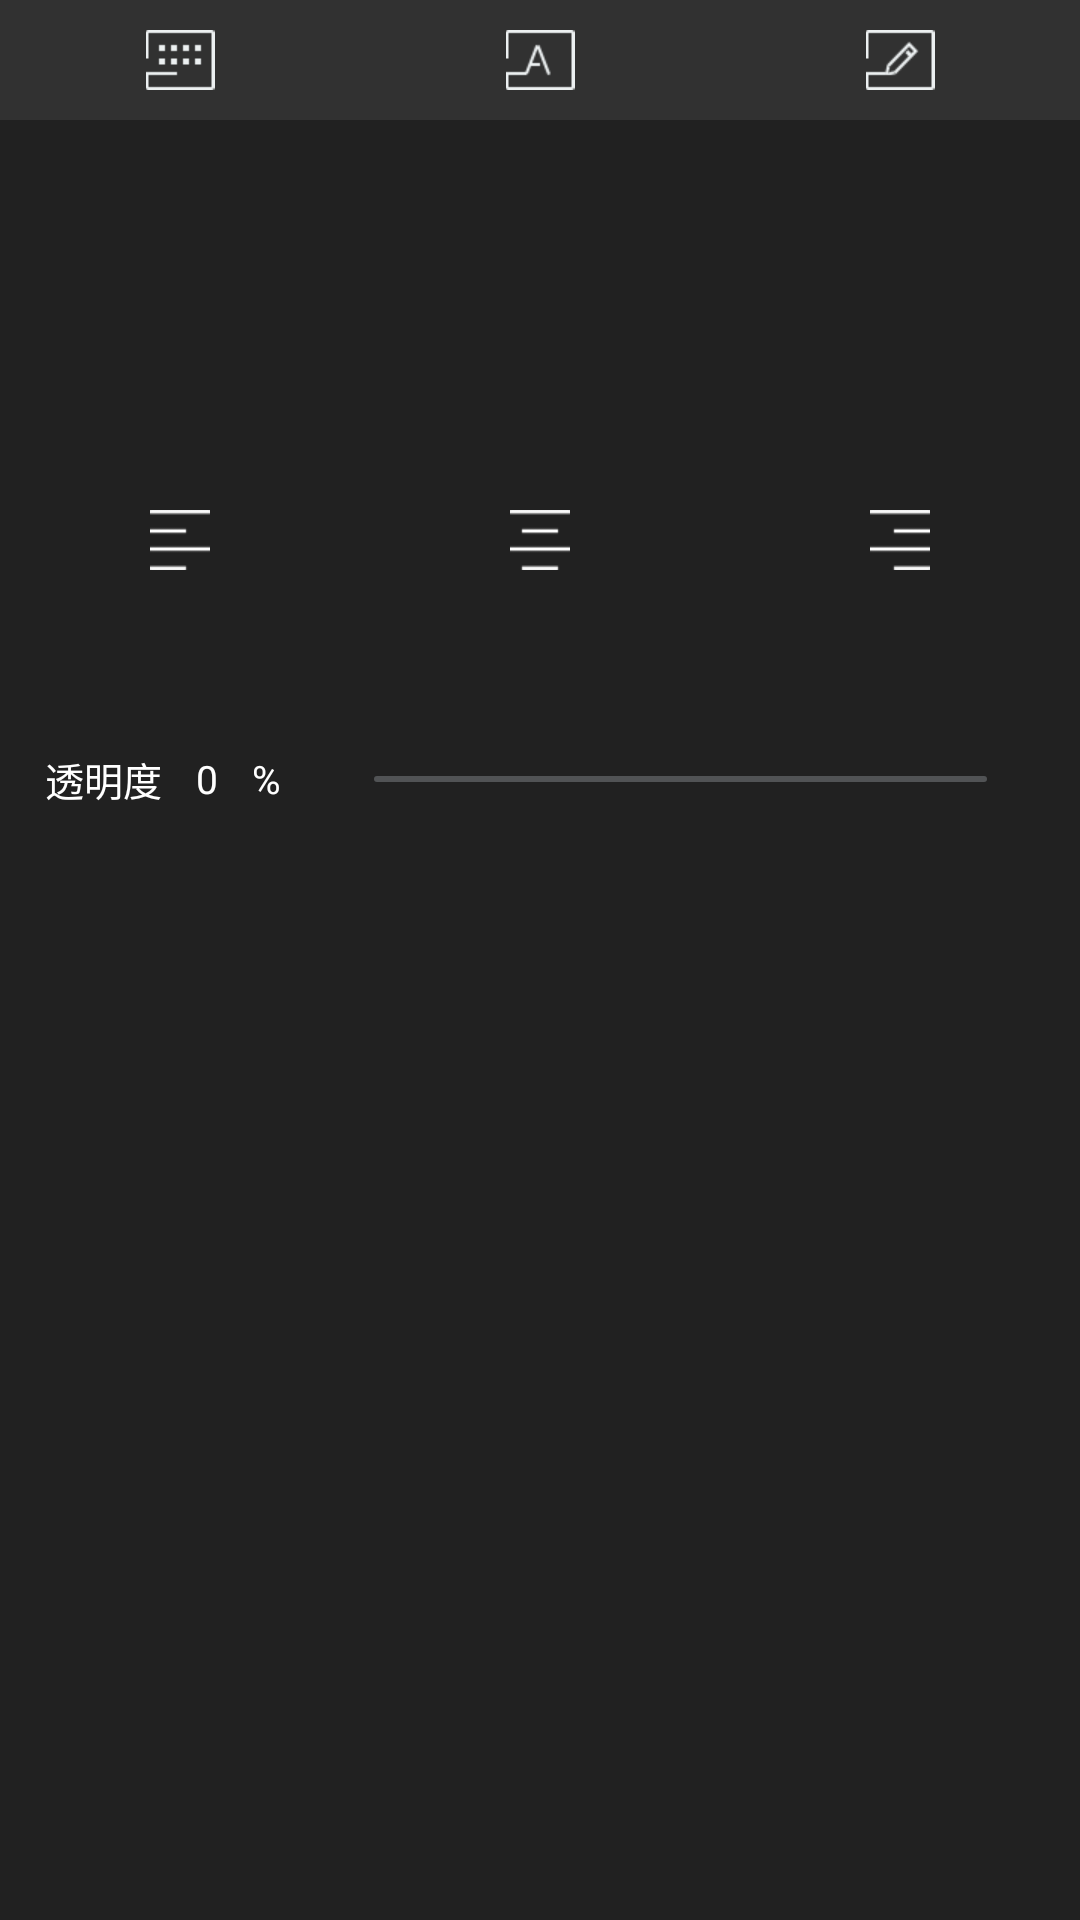

Named icons in this screenshot (1080x1920) and their centers, point (x, y):
center justified: point (540, 540)
left justified: point (180, 540)
pop font: point (540, 60)
pop keyboard: point (180, 60)
pop style: point (900, 60)
right justified: point (900, 540)
